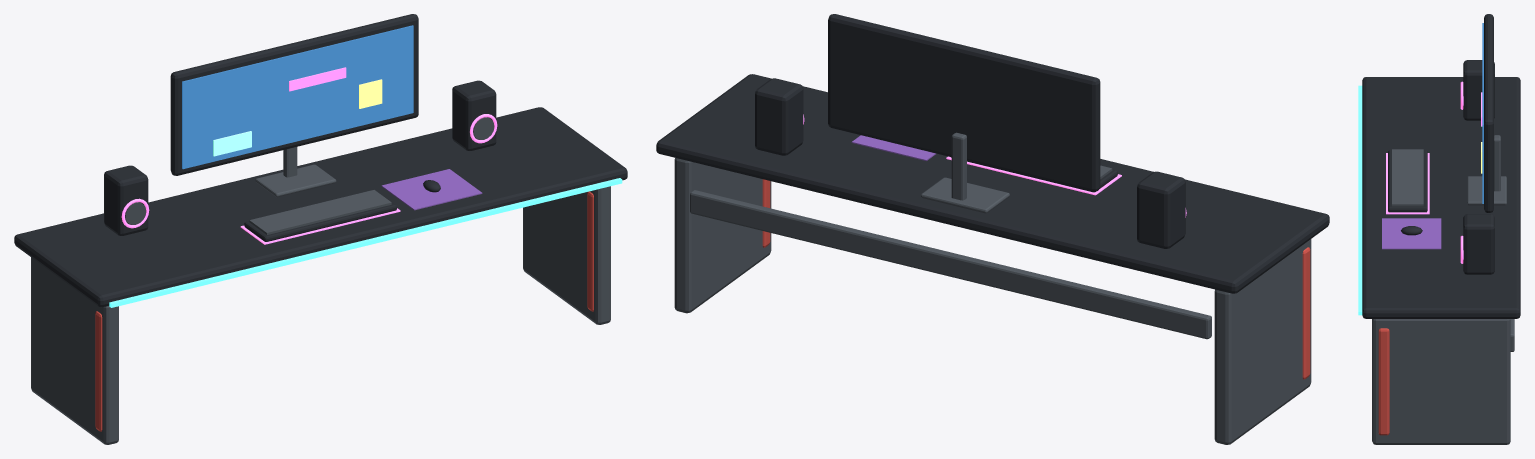
Rendered from mesa-gamer.glb.
The picture shows the model from 3 angles, left to right: view 1: azimuth 30°, elevation 25°; view 2: azimuth 150°, elevation 25°; view 3: azimuth 270°, elevation 25°; orthographic projection. The views are drawn at different scales.
Visible parts, largest first — view 1: mesa-gamer; view 2: mesa-gamer; view 3: mesa-gamer.
Boxes of the visible parts, left/top/right/bottom form: mesa-gamer: left=14, top=14, right=627, bottom=444; mesa-gamer: left=656, top=14, right=1329, bottom=444; mesa-gamer: left=1358, top=14, right=1520, bottom=444.
Bounding box in the file's own units: 2.8 × 1.49 × 0.82.
